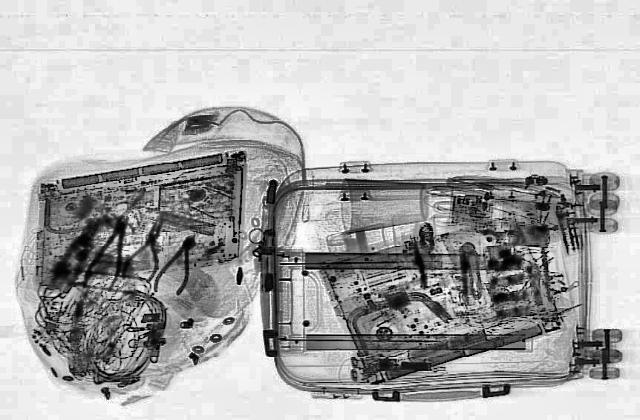Pliers: (76, 212, 142, 292), (148, 232, 208, 296), (120, 220, 172, 282)
